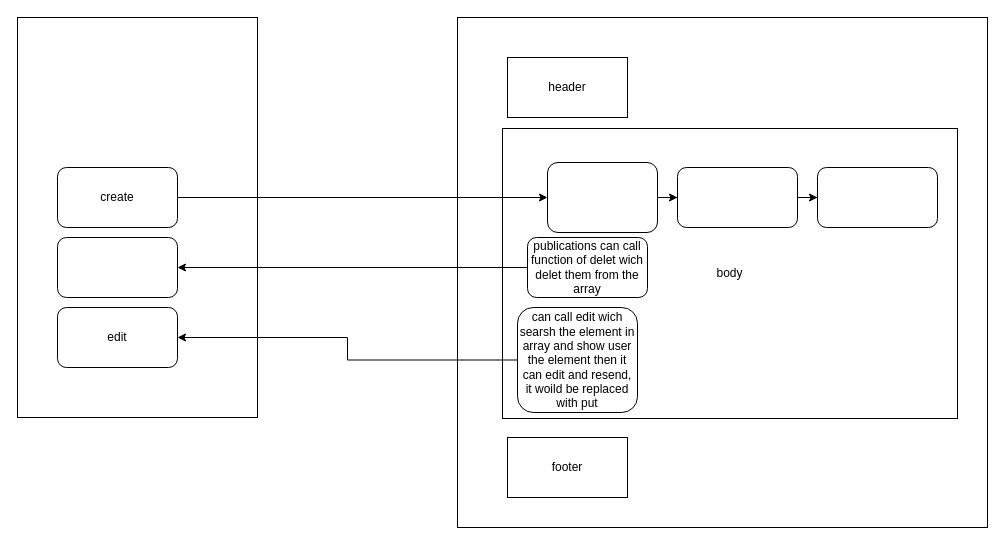
Some shapes in this 1005 by 545 pixel diagram are drawn without their labels. Here are the shapes that lost their labels. From the top down, the centre of each, then its label:
(x=602, y=197): get the new post from an form(popup) and send it to the main
(x=737, y=197): read it and send in post format
(x=877, y=197): adjust it with flexbox, in nx2 matrix
(x=117, y=267): delete
